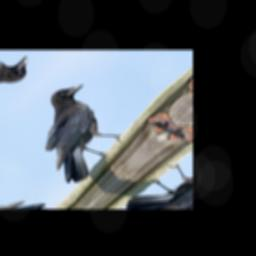Crow: (0, 78, 150, 188)
